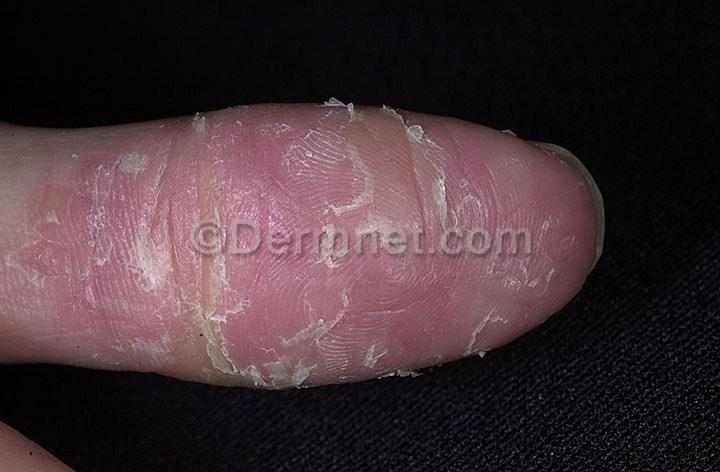Eczema: (62, 121, 563, 390)
